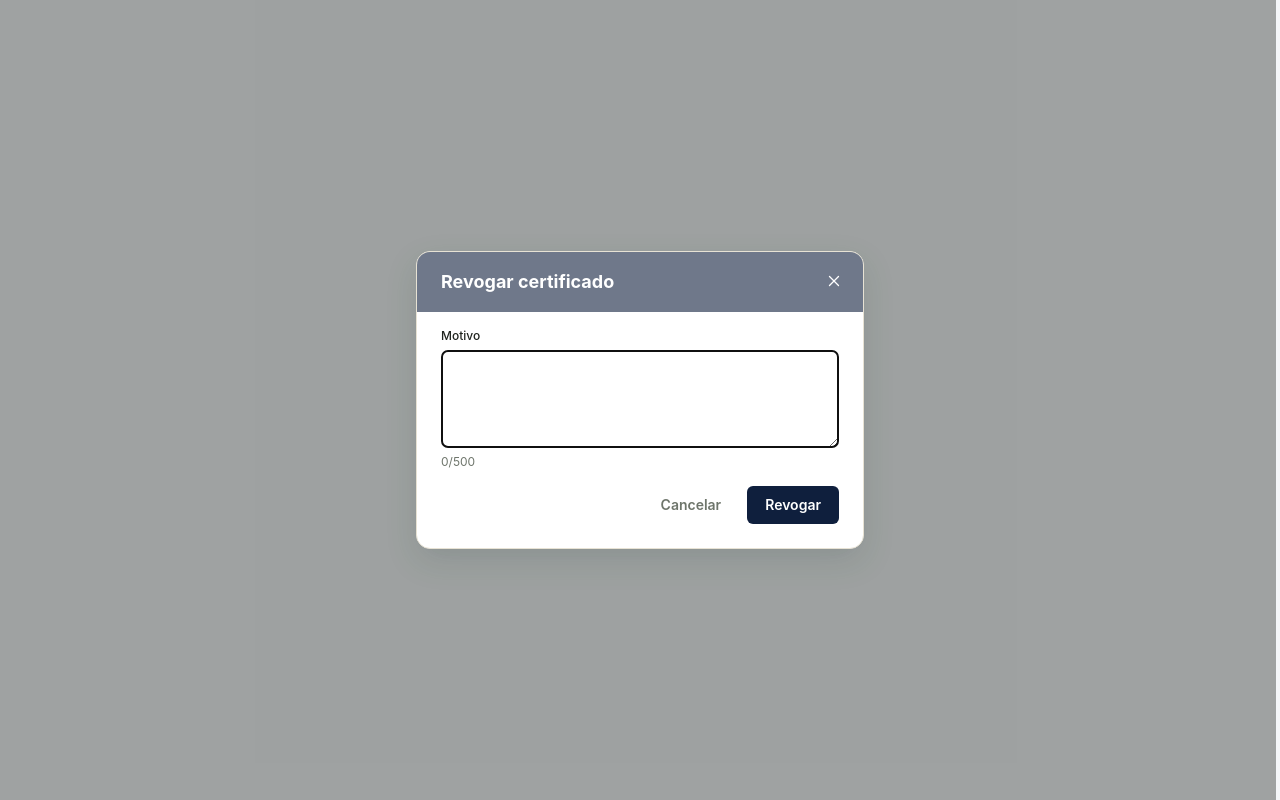
Test case: ReasonDialog › motivo com 2 caracteres não confirma e explica porquê
Type "ab" into the text box labelled "Motivo" at [640, 399], box [441, 350, 839, 448]
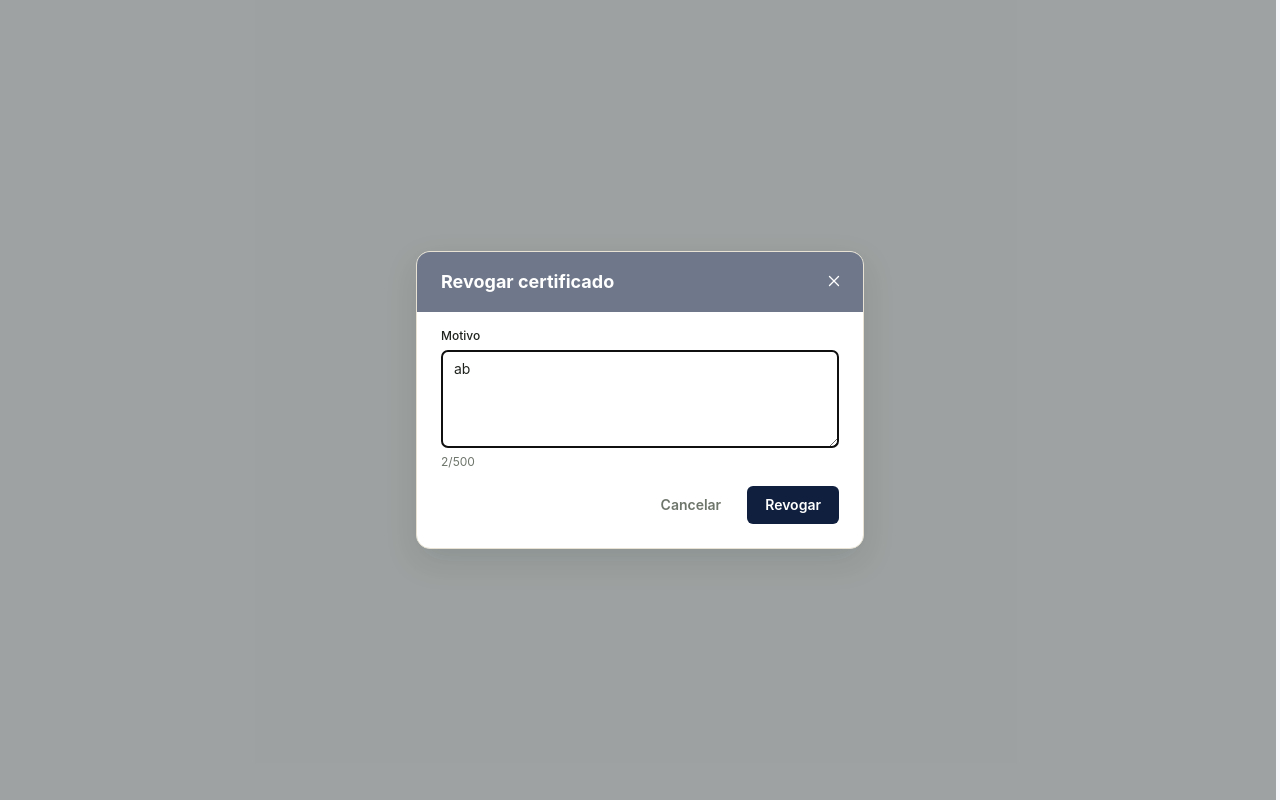
Click the button "Revogar" at [793, 505], box [747, 486, 839, 524]
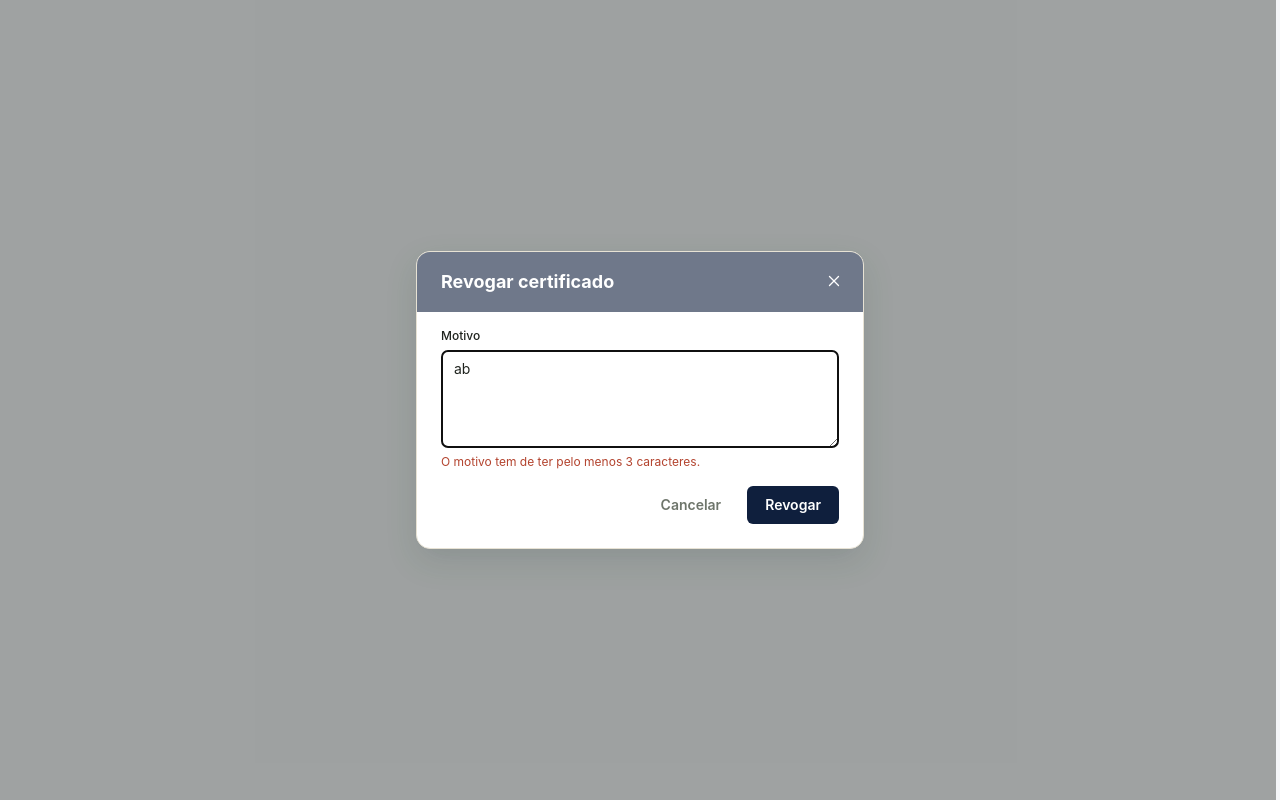
Now the text "O motivo tem de ter pelo menos 3 caracteres." is shown, box [441, 454, 700, 469]
